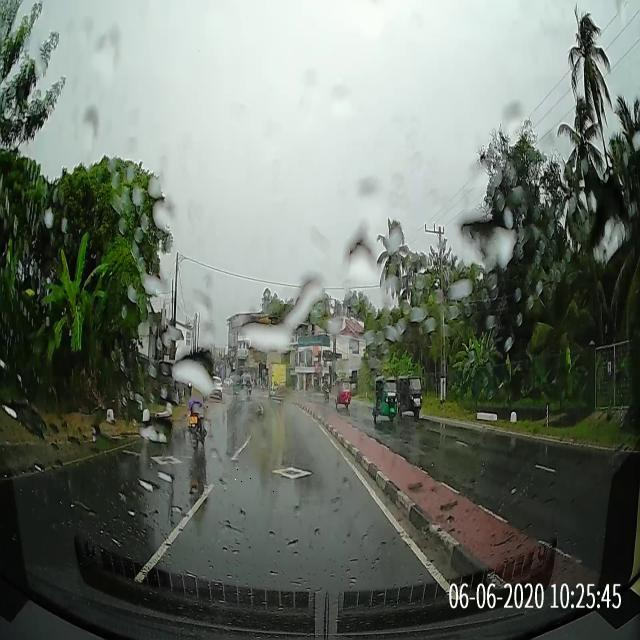diamond: (196, 449, 377, 493)
